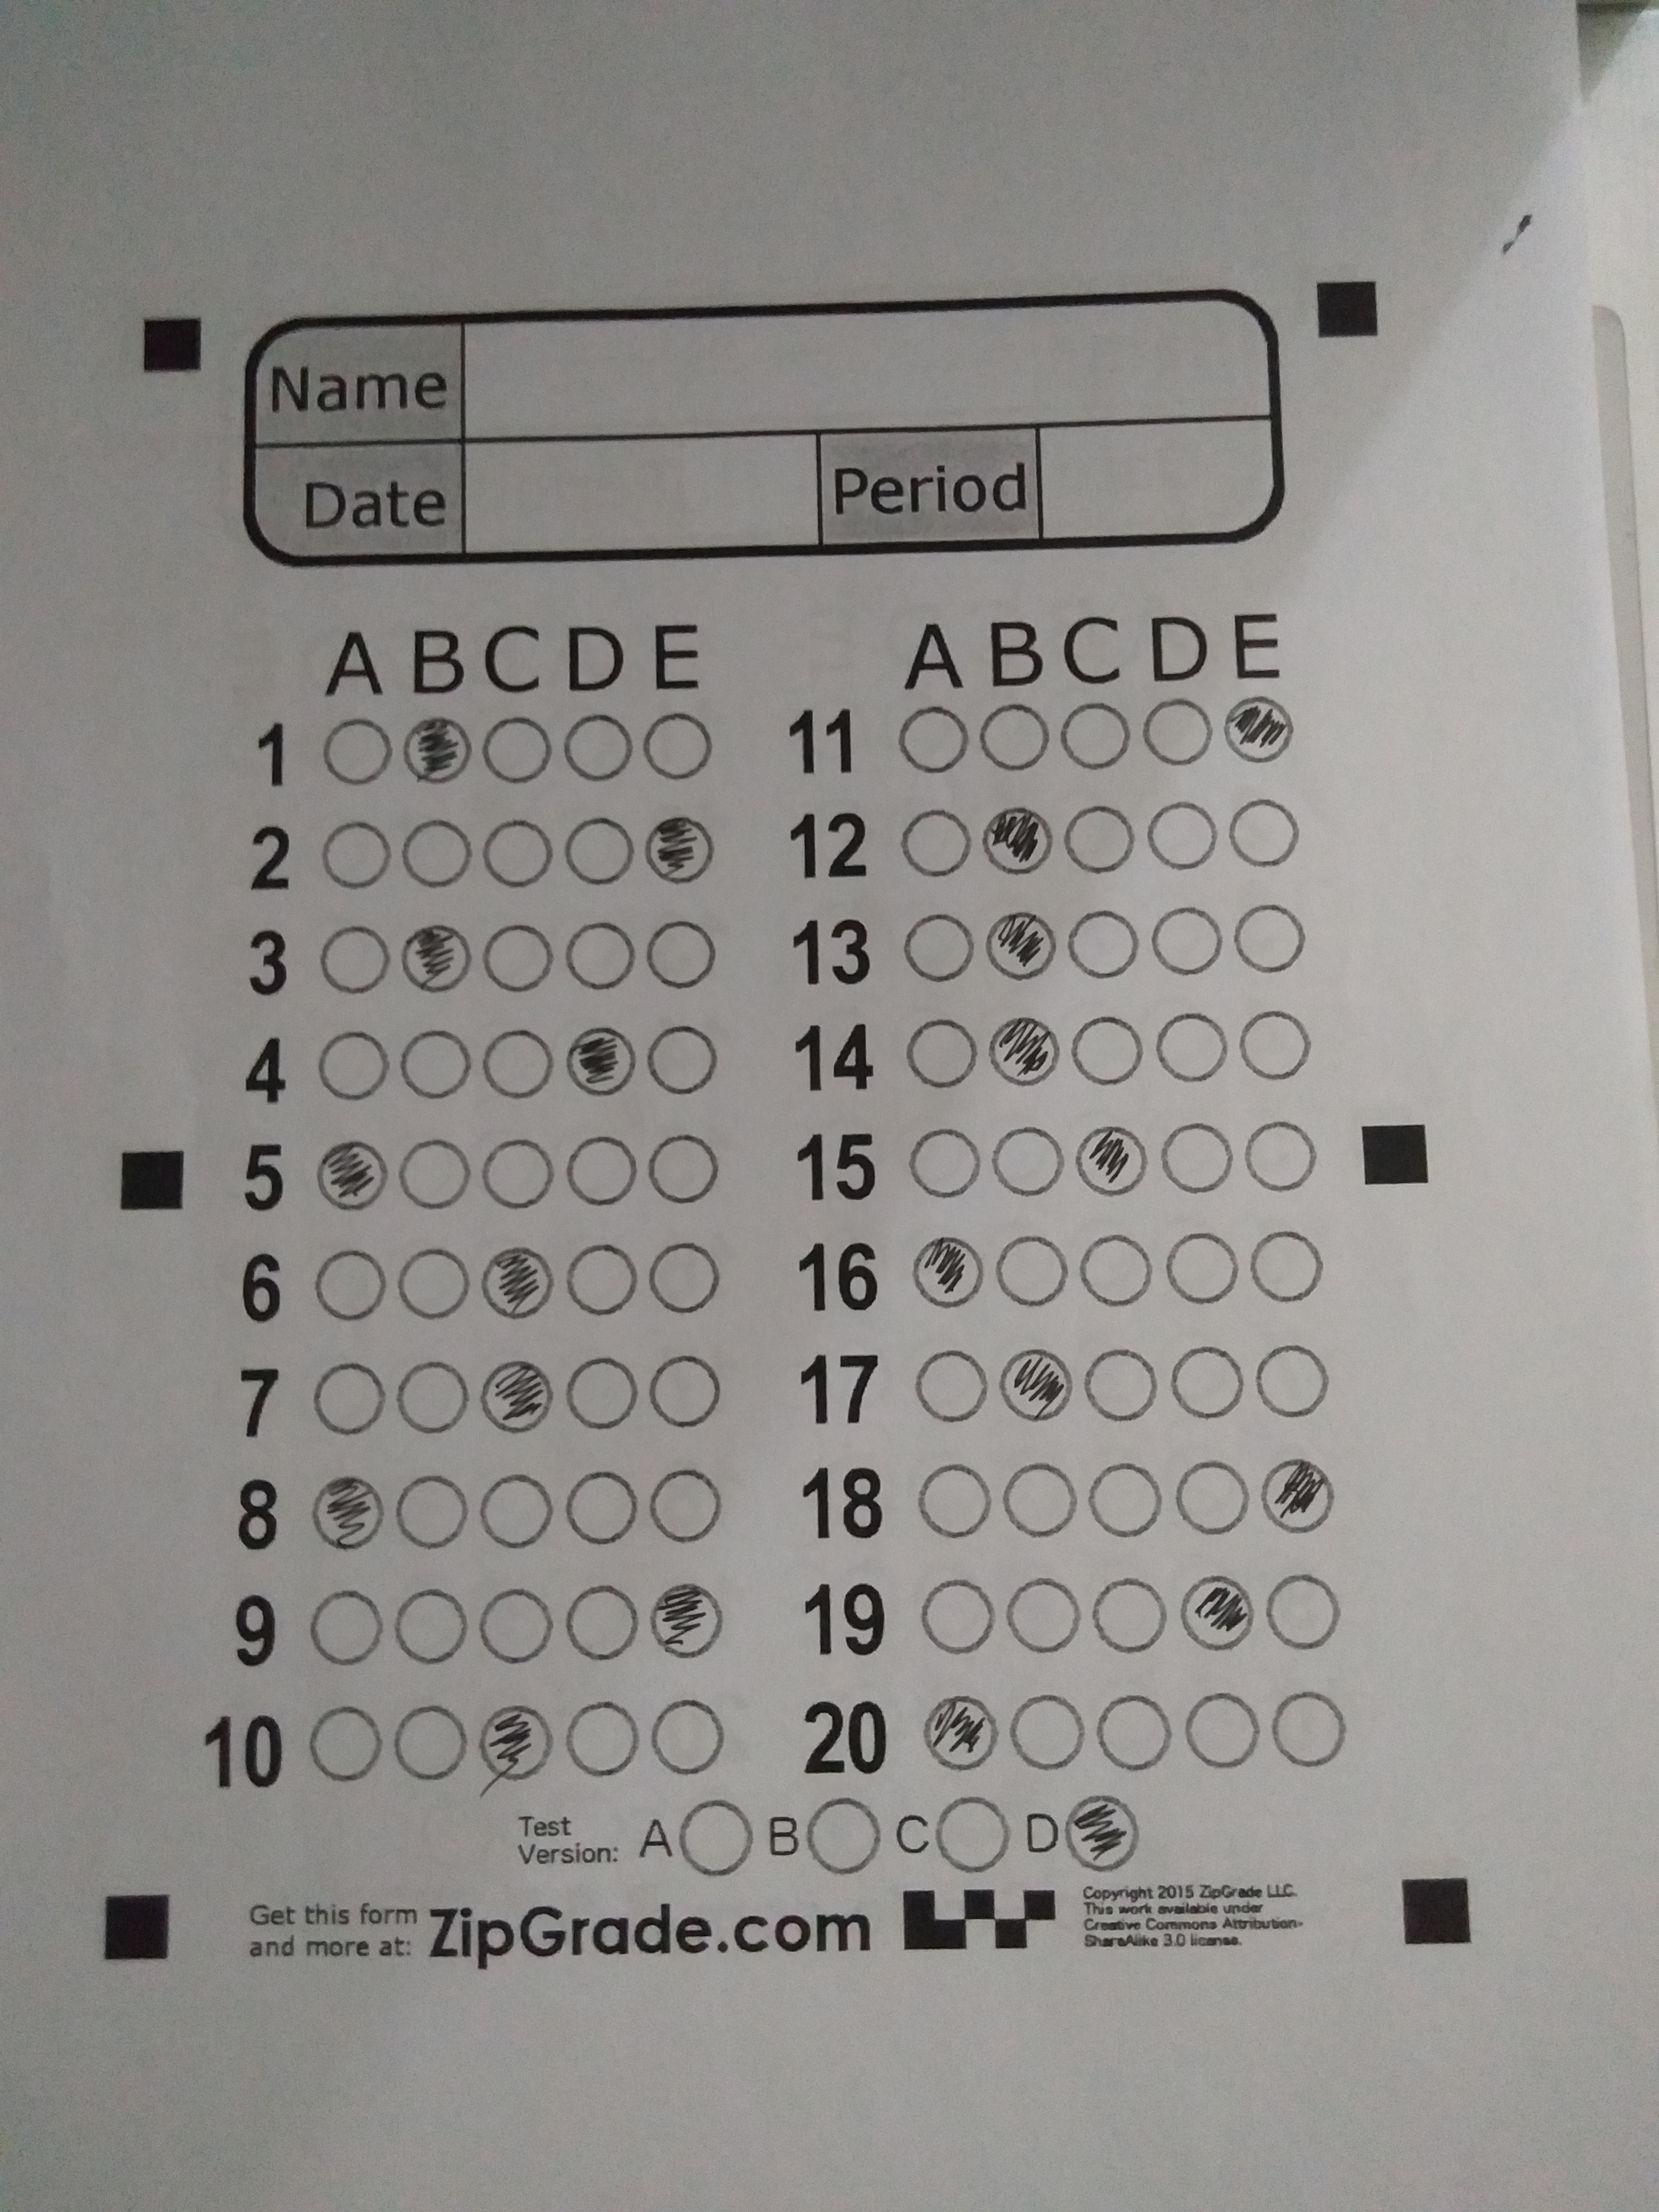not-c: (481, 712, 559, 786), (559, 709, 638, 782), (394, 817, 472, 890), (314, 822, 392, 895), (558, 920, 636, 993), (974, 702, 1053, 775), (1136, 697, 1215, 770), (1229, 796, 1307, 869), (1063, 799, 1141, 873), (896, 803, 974, 876), (1061, 909, 1140, 982), (1143, 907, 1222, 981), (1068, 1015, 1147, 1089), (896, 1019, 974, 1092), (641, 1022, 720, 1096), (392, 1031, 471, 1104), (483, 1136, 561, 1209), (647, 1244, 725, 1317), (563, 1242, 641, 1315), (394, 1360, 472, 1433), (558, 1357, 636, 1430), (648, 1470, 727, 1543), (561, 1470, 640, 1543), (392, 1475, 471, 1548), (563, 1702, 641, 1775), (390, 1705, 469, 1778), (305, 1707, 383, 1780), (904, 1130, 983, 1204), (1155, 1123, 1234, 1197), (1243, 1122, 1321, 1195), (1243, 1231, 1321, 1305), (911, 1352, 990, 1425), (1086, 1350, 1164, 1423), (1089, 1465, 1168, 1538), (1004, 1465, 1082, 1538), (911, 1467, 990, 1540), (920, 1580, 999, 1653), (1006, 1578, 1084, 1651), (1262, 1576, 1340, 1649), (1093, 1695, 1171, 1768), (802, 1801, 880, 1874), (317, 714, 394, 787), (561, 815, 638, 888), (1234, 900, 1310, 974), (1154, 1008, 1230, 1082), (481, 1029, 558, 1103), (563, 1588, 640, 1662), (1009, 1695, 1086, 1768), (934, 1797, 1011, 1871), (640, 711, 718, 782), (472, 820, 551, 892), (314, 927, 392, 998), (476, 920, 554, 991), (892, 704, 971, 775), (1143, 799, 1222, 871), (897, 911, 976, 982), (1241, 1014, 1319, 1085), (308, 1031, 387, 1103), (397, 1139, 476, 1211), (565, 1139, 643, 1211), (392, 1247, 471, 1318), (308, 1251, 387, 1322), (308, 1362, 387, 1433), (643, 1355, 721, 1426), (484, 1475, 563, 1547), (307, 1590, 385, 1662), (394, 1588, 472, 1660), (481, 1588, 559, 1660), (563, 1590, 641, 1662), (993, 1127, 1072, 1198), (1162, 1231, 1241, 1303), (1077, 1235, 1155, 1306), (990, 1235, 1068, 1306), (1168, 1345, 1246, 1416), (1255, 1348, 1333, 1420), (1091, 1580, 1169, 1651), (1276, 1693, 1354, 1764), (1183, 1695, 1262, 1766), (671, 1803, 749, 1874), (650, 1702, 728, 1773), (643, 920, 720, 991), (1060, 700, 1136, 772), (650, 1136, 727, 1207), (1173, 1461, 1249, 1533)
taken-c: (1253, 1453, 1344, 1536), (471, 1698, 561, 1782), (915, 1691, 1006, 1775), (303, 1472, 394, 1555), (645, 1580, 734, 1663), (1051, 1791, 1140, 1874), (307, 1136, 394, 1214), (474, 1353, 561, 1432), (1173, 1571, 1258, 1649), (997, 1343, 1077, 1425), (559, 1022, 645, 1097), (904, 1235, 990, 1310), (476, 1244, 554, 1324), (979, 799, 1060, 878), (1072, 1122, 1152, 1200), (394, 921, 476, 996), (1218, 690, 1300, 765), (985, 907, 1063, 984), (640, 813, 718, 887), (986, 1014, 1066, 1085), (399, 716, 476, 787)
